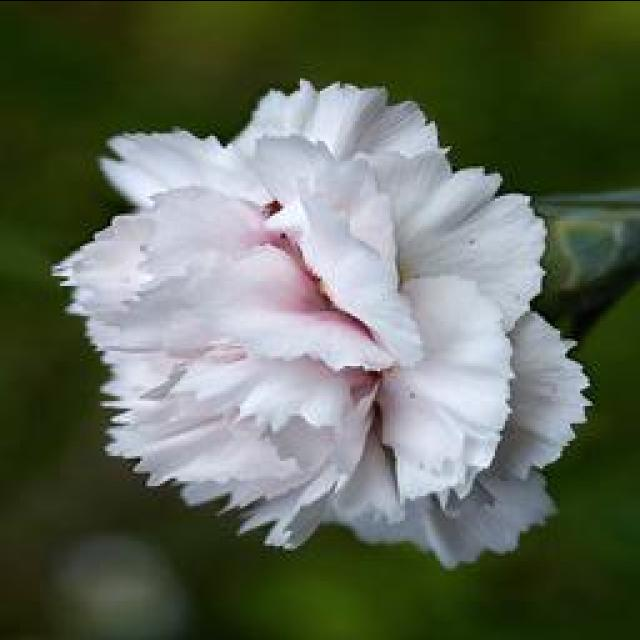carnation: (63, 58, 612, 582)
